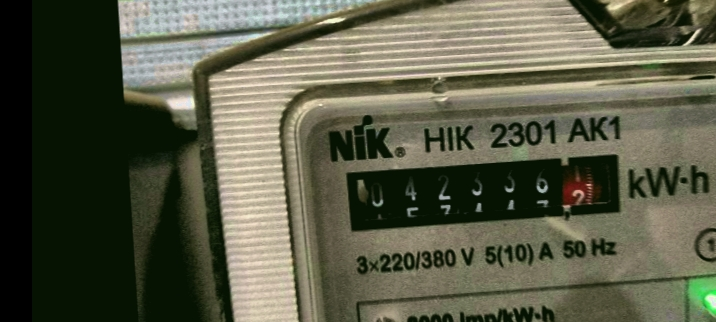0: (365, 180, 383, 209)
1: (567, 161, 581, 184)
2: (433, 171, 450, 201), (567, 187, 584, 206)
3: (496, 164, 514, 195), (465, 168, 481, 197)
4: (399, 173, 417, 203)
6: (530, 164, 549, 195)
screen: (332, 141, 632, 241)
